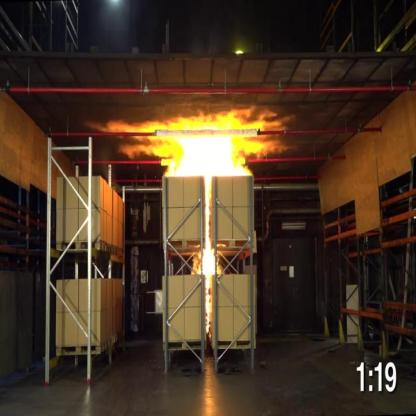fire: (95, 112, 297, 173), (191, 182, 223, 340)
